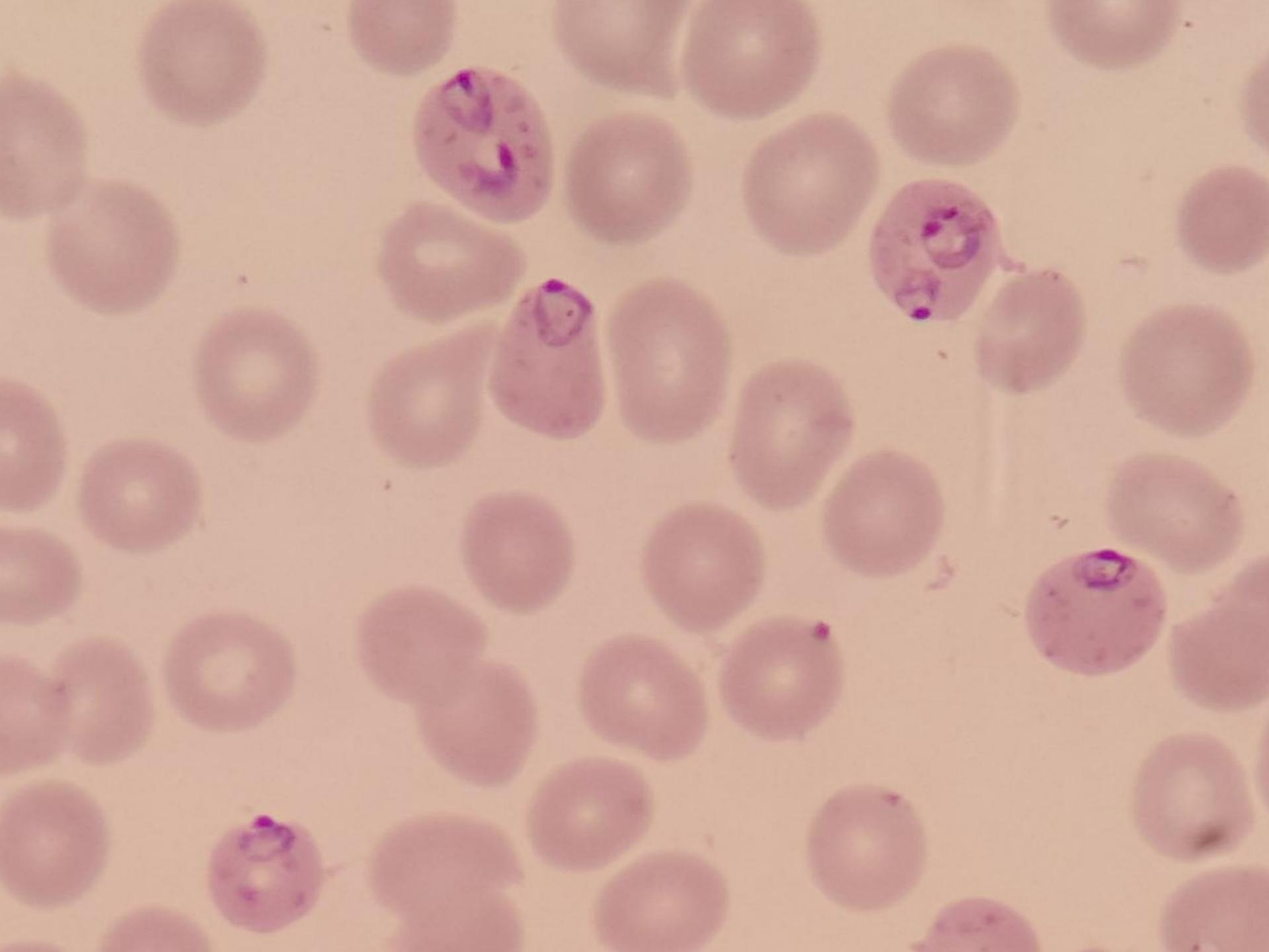Infected: (413, 65, 555, 224), (869, 177, 1004, 325), (1024, 544, 1165, 681), (492, 278, 611, 440), (210, 813, 322, 936)
Uninfected: (606, 275, 728, 446), (365, 318, 502, 470), (745, 113, 884, 261), (1117, 301, 1251, 439), (727, 359, 849, 507), (383, 202, 528, 319), (682, 0, 821, 121), (137, 0, 269, 127), (1129, 732, 1252, 867), (583, 631, 707, 764), (368, 813, 525, 915), (570, 113, 692, 244), (416, 656, 537, 788), (646, 499, 766, 631), (719, 615, 844, 741), (825, 445, 946, 575), (195, 309, 313, 439), (53, 184, 174, 310), (810, 785, 930, 912), (362, 585, 491, 703), (1109, 453, 1242, 567), (892, 46, 1014, 170), (527, 755, 654, 873), (170, 613, 298, 729), (459, 486, 572, 614), (554, 0, 697, 101), (0, 777, 109, 906), (978, 268, 1087, 393), (595, 853, 730, 952), (83, 443, 202, 554), (0, 80, 91, 214), (58, 643, 150, 762), (1173, 602, 1269, 711), (1175, 165, 1269, 275), (0, 519, 85, 623), (344, 0, 454, 77), (0, 666, 68, 772)
